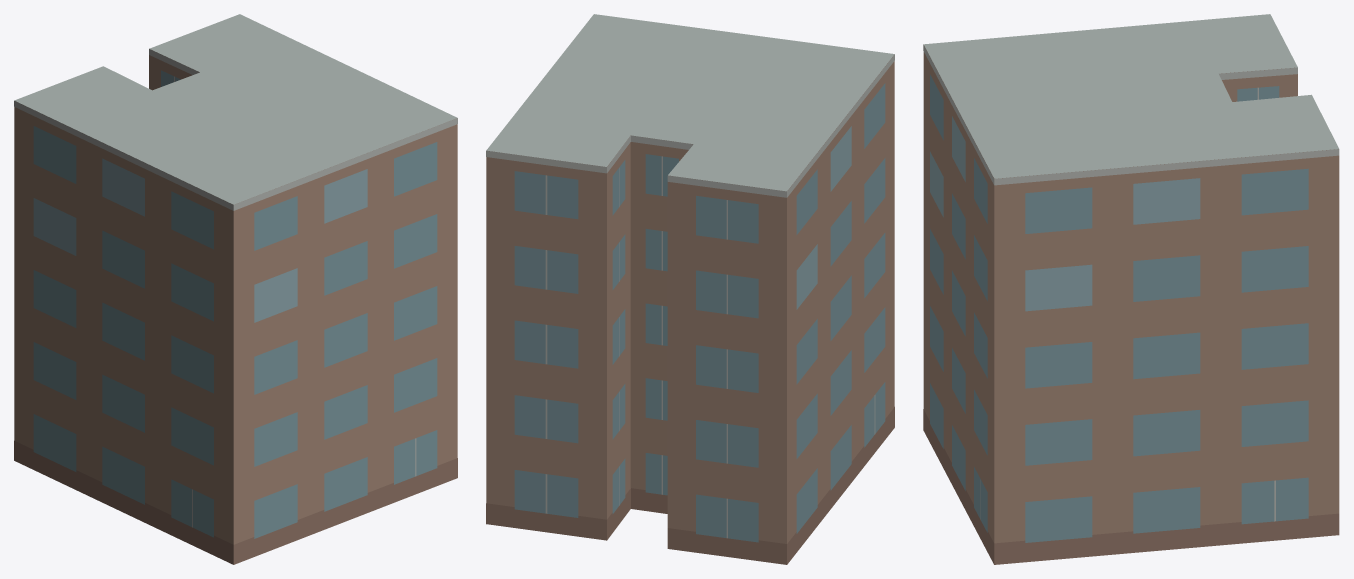
File: survey-upis-32743927.glb
3 renders of one model, left to right at view 1: azimuth 30°, elevation 25°; view 2: azimuth 150°, elevation 25°; view 3: azimuth 270°, elevation 25°, orthographic. The views are drawn at different scales.
Visible parts, largest first — view 1: survey-upis-32743927.tmp; view 2: survey-upis-32743927.tmp; view 3: survey-upis-32743927.tmp.
Part boxes in pixels (x1,y1,x2,y2): survey-upis-32743927.tmp: [14, 14, 457, 564]; survey-upis-32743927.tmp: [486, 14, 894, 564]; survey-upis-32743927.tmp: [923, 14, 1339, 564].
Bounding box in the file's own units: 13.01 × 14.2 × 13.87.
